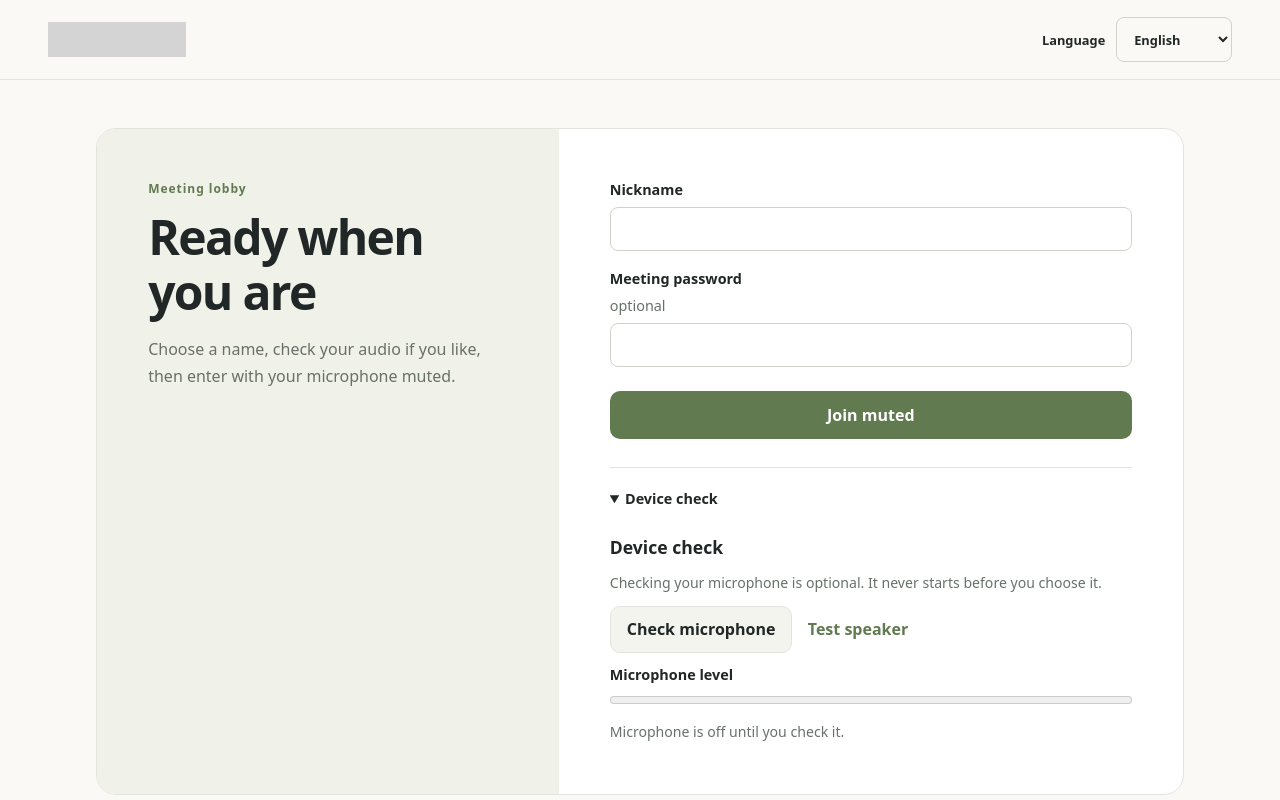
Scenario: join lobby › explains when browser policy does not expose microphone access
Check: the field labelled "Nickname" is shown, box [610,207,1132,251]
Step 1. Click the button "Check microphone" → (701, 629), box [610,606,792,653]
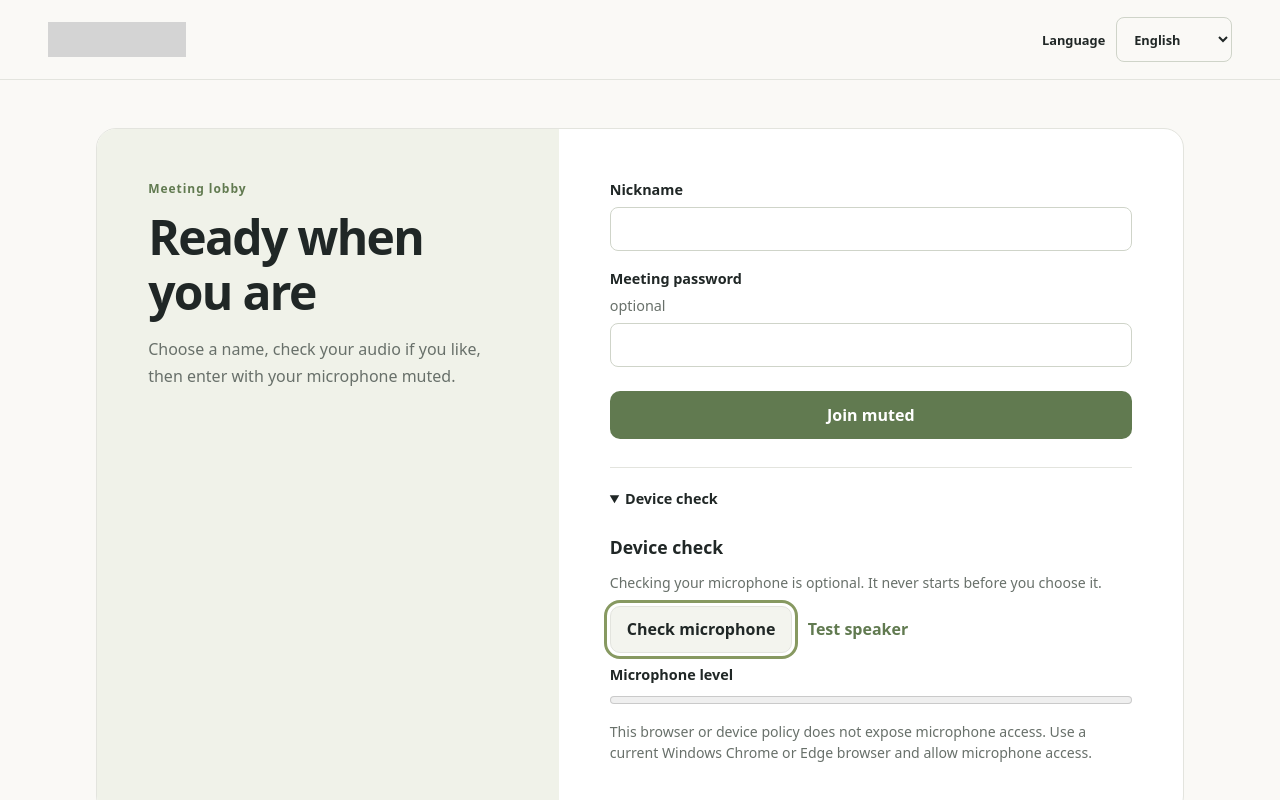
Check: the message shows "does not expose microphone access", box [610,722,1092,762]
